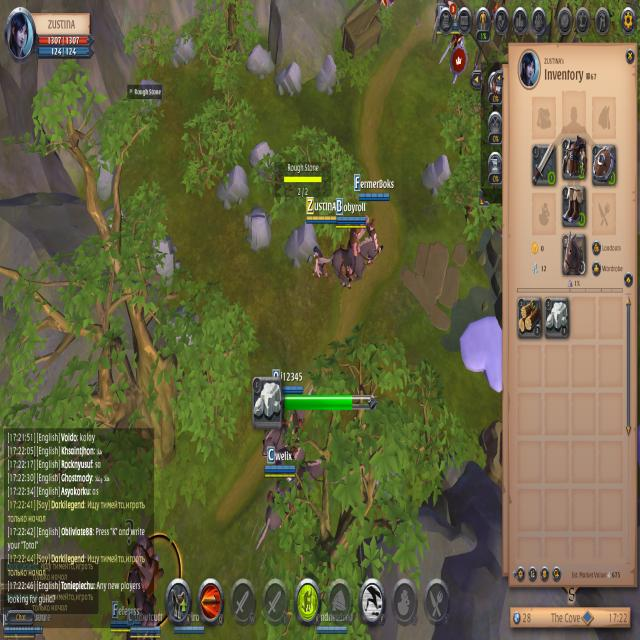stone: (149, 234, 184, 291), (214, 168, 251, 217), (312, 45, 344, 101), (284, 220, 318, 270), (420, 149, 453, 199), (91, 152, 120, 205), (247, 139, 280, 185), (244, 42, 277, 84), (244, 206, 274, 252), (274, 56, 305, 100), (170, 33, 200, 71)
